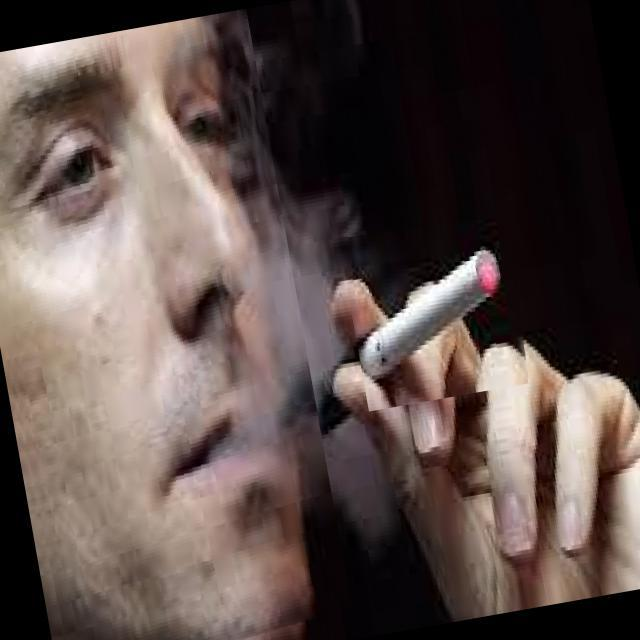cigarette: (333, 176, 540, 411)
